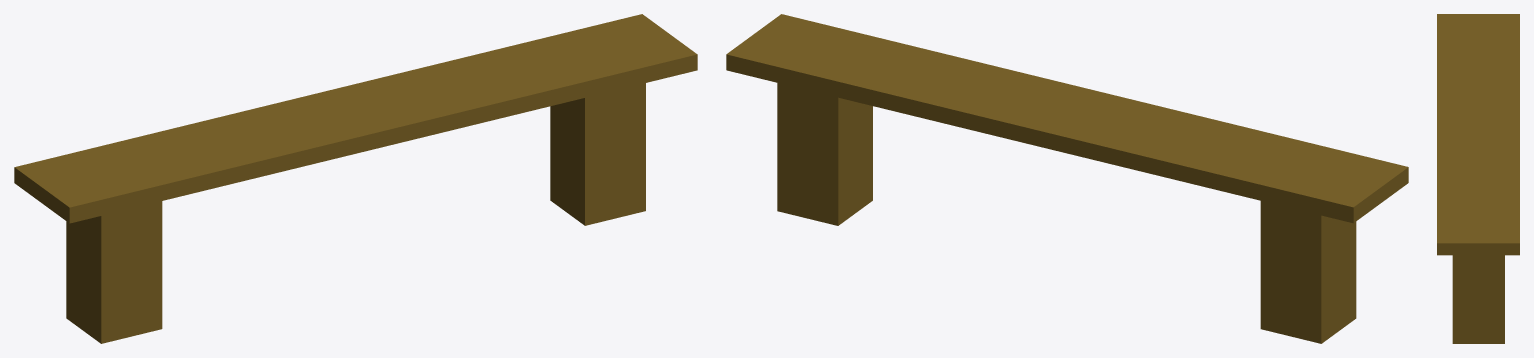
File: bank.fbx
3 views of the same model, side by side, from view 1: azimuth 30°, elevation 25°; view 2: azimuth 150°, elevation 25°; view 3: azimuth 270°, elevation 25° (orthographic). The views are drawn at different scales.
Parts seen in each view (by area): view 1: pCube19; view 2: pCube19; view 3: pCube19.
Boxes of the visible parts, x1,y1,x2,y2 form: pCube19: (14,14,697,343); pCube19: (726,14,1408,343); pCube19: (1437,14,1519,343).
Size of the model in its own units: 10.39 by 2.44 by 1.58.
